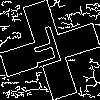F: (25, 25, 68, 78)
